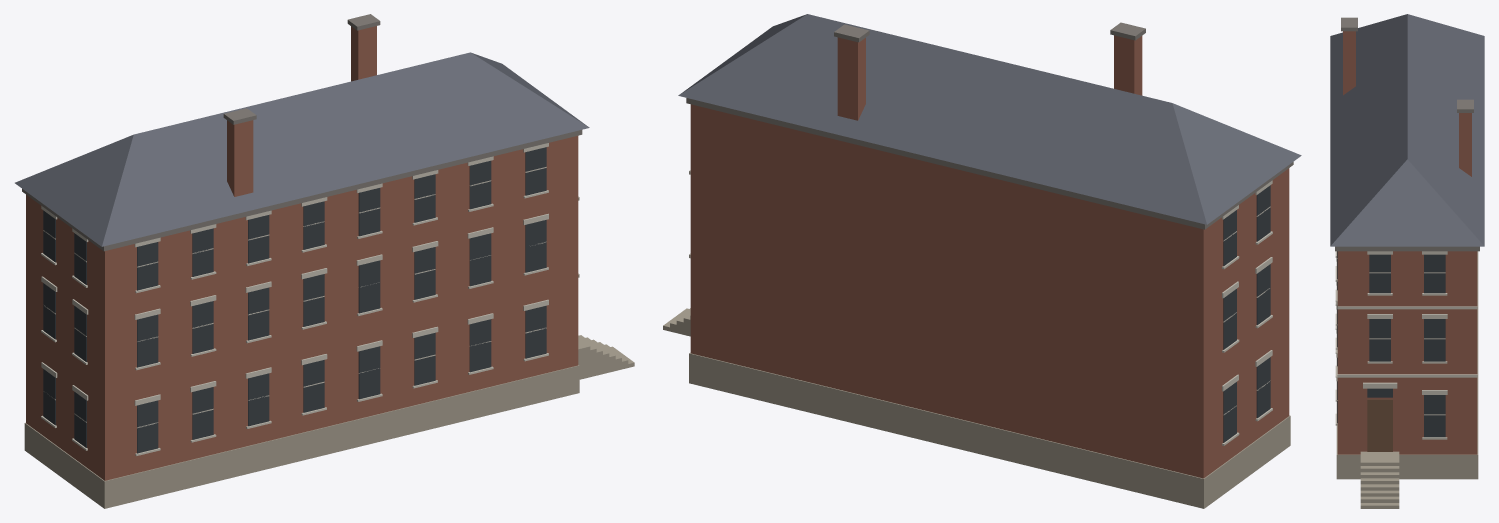
Rendered from house_2019_indiana__draft_1904.glb.
The picture shows the model from 3 angles, left to right: view 1: azimuth 30°, elevation 25°; view 2: azimuth 150°, elevation 25°; view 3: azimuth 270°, elevation 25°; orthographic projection. The views are drawn at different scales.
Visible parts, largest first — view 1: house_2019_indiana__draft_1904; view 2: house_2019_indiana__draft_1904; view 3: house_2019_indiana__draft_1904.
Part boxes in pixels (box(x1,y1,x2,y2)): house_2019_indiana__draft_1904: box(15, 14, 634, 508); house_2019_indiana__draft_1904: box(663, 14, 1301, 508); house_2019_indiana__draft_1904: box(1330, 14, 1484, 508).
Size of the model in its own units: 26.15 by 16.09 by 7.2.
